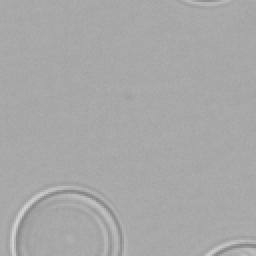picoshell: (10, 186, 124, 254), (202, 238, 254, 254), (180, 0, 230, 6)
